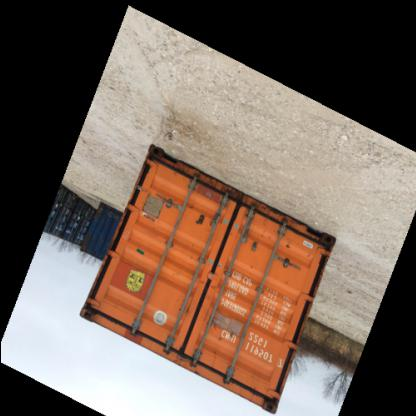Damage: (212, 184, 254, 218), (147, 146, 183, 176), (302, 228, 334, 254), (206, 316, 230, 348), (174, 290, 193, 322), (82, 298, 104, 320), (259, 390, 277, 414), (192, 210, 208, 234), (285, 239, 294, 259)
